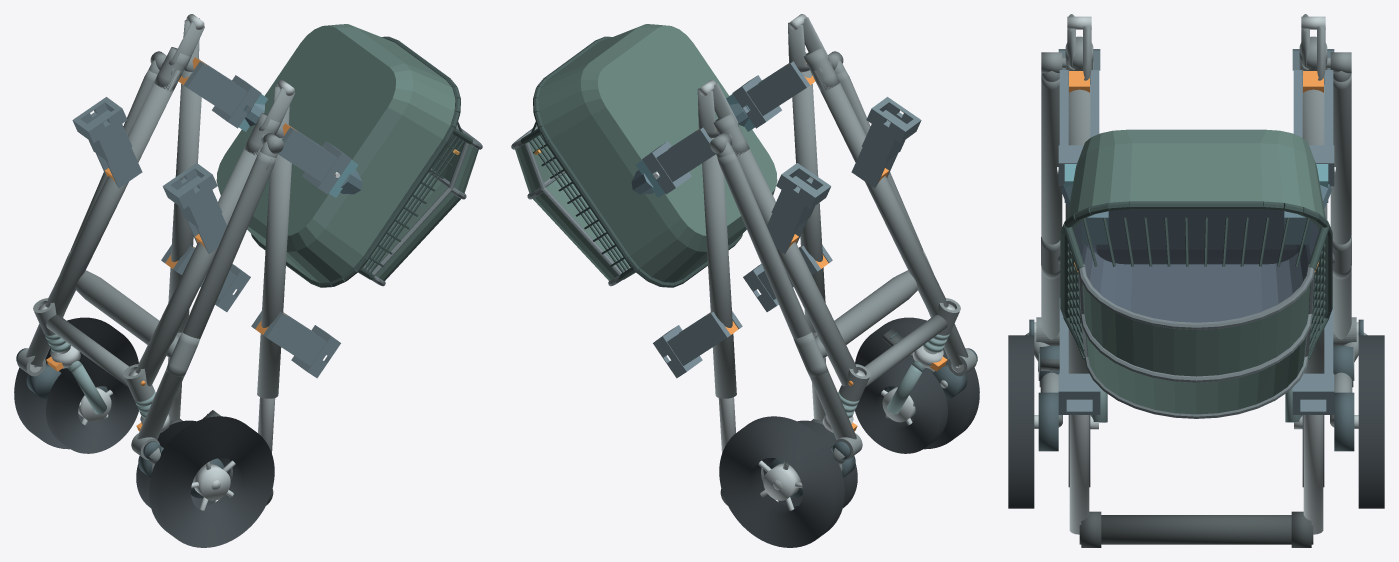
File: S02_w380_state3_wheel_S.glb
3 renders of one model, left to right at view 1: azimuth 30°, elevation 25°; view 2: azimuth 150°, elevation 25°; view 3: azimuth 270°, elevation 25°, orthographic. The views are drawn at different scales.
Visible parts, largest first — view 1: S02_Cabin, RL_tire.013, V46_rear_leg_-1, FR_tire.013, main_upper_-1.001, main_lower_1.001, main_lower_-1.001, RR_tire.013, Universal_Cabin_Receiver_L_1, Universal_Cabin_Receiver_L_-1, main_upper_1.001, Universal_Cabin_Receiver_H_-1 (+18 smaller); view 2: S02_Cabin, RR_tire.013, V46_rear_leg_1, FL_tire.013, main_upper_1.001, main_lower_-1.001, main_lower_1.001, Universal_Cabin_Receiver_L_-1, Universal_Cabin_Receiver_L_1, RL_tire.013, main_upper_-1.001, Universal_Cabin_Receiver_H_1 (+18 smaller); view 3: S02_Cabin, round_handle.012, RL_tire.013, RR_tire.013, V46_rear_leg_1, V46_rear_leg_-1, handle_slider_1.012, handle_slider_-1.012, S02_Cabin_Mount_M, Universal_Cabin_Receiver_H_1, Universal_Cabin_Receiver_H_-1, Universal_Cabin_Receiver_M_1 (+14 smaller).
Part boxes in pixels (box(x1,y1,x2,y2)): S02_Cabin: box(216, 24, 482, 287); RL_tire.013: box(149, 416, 274, 547); V46_rear_leg_-1: box(137, 151, 276, 439); FR_tire.013: box(46, 356, 138, 453); main_upper_-1.001: box(257, 138, 291, 398); main_lower_1.001: box(45, 70, 180, 317); main_lower_-1.001: box(135, 145, 262, 386); RR_tire.013: box(14, 317, 138, 449); Universal_Cabin_Receiver_L_1: box(72, 97, 142, 187); Universal_Cabin_Receiver_L_-1: box(162, 163, 226, 254); main_upper_1.001: box(168, 70, 201, 332); Universal_Cabin_Receiver_H_-1: box(251, 311, 340, 378); S02_Cabin: box(511, 24, 777, 287); RR_tire.013: box(719, 416, 844, 547); V46_rear_leg_1: box(717, 151, 856, 439); FL_tire.013: box(855, 356, 947, 453); main_upper_1.001: box(702, 138, 736, 398); main_lower_-1.001: box(813, 70, 948, 317); main_lower_1.001: box(731, 145, 858, 386); Universal_Cabin_Receiver_L_-1: box(851, 97, 921, 187); Universal_Cabin_Receiver_L_1: box(767, 163, 831, 254); RL_tire.013: box(855, 317, 979, 449); main_upper_-1.001: box(792, 70, 825, 332); Universal_Cabin_Receiver_H_1: box(653, 311, 742, 378); S02_Cabin: box(1060, 129, 1332, 418); round_handle.012: box(1079, 515, 1313, 544); RL_tire.013: box(1008, 335, 1034, 508); RR_tire.013: box(1358, 335, 1384, 508); V46_rear_leg_1: box(1330, 74, 1351, 339); V46_rear_leg_-1: box(1041, 74, 1062, 339); handle_slider_1.012: box(1303, 415, 1323, 534); handle_slider_-1.012: box(1069, 415, 1089, 534); S02_Cabin_Mount_M: box(1057, 164, 1335, 244); Universal_Cabin_Receiver_H_1: box(1292, 298, 1334, 414); Universal_Cabin_Receiver_H_-1: box(1058, 298, 1100, 414); Universal_Cabin_Receiver_M_1: box(1293, 70, 1334, 186).
Bounding box in the file's own units: 0.6597 × 0.6926 × 0.434.
